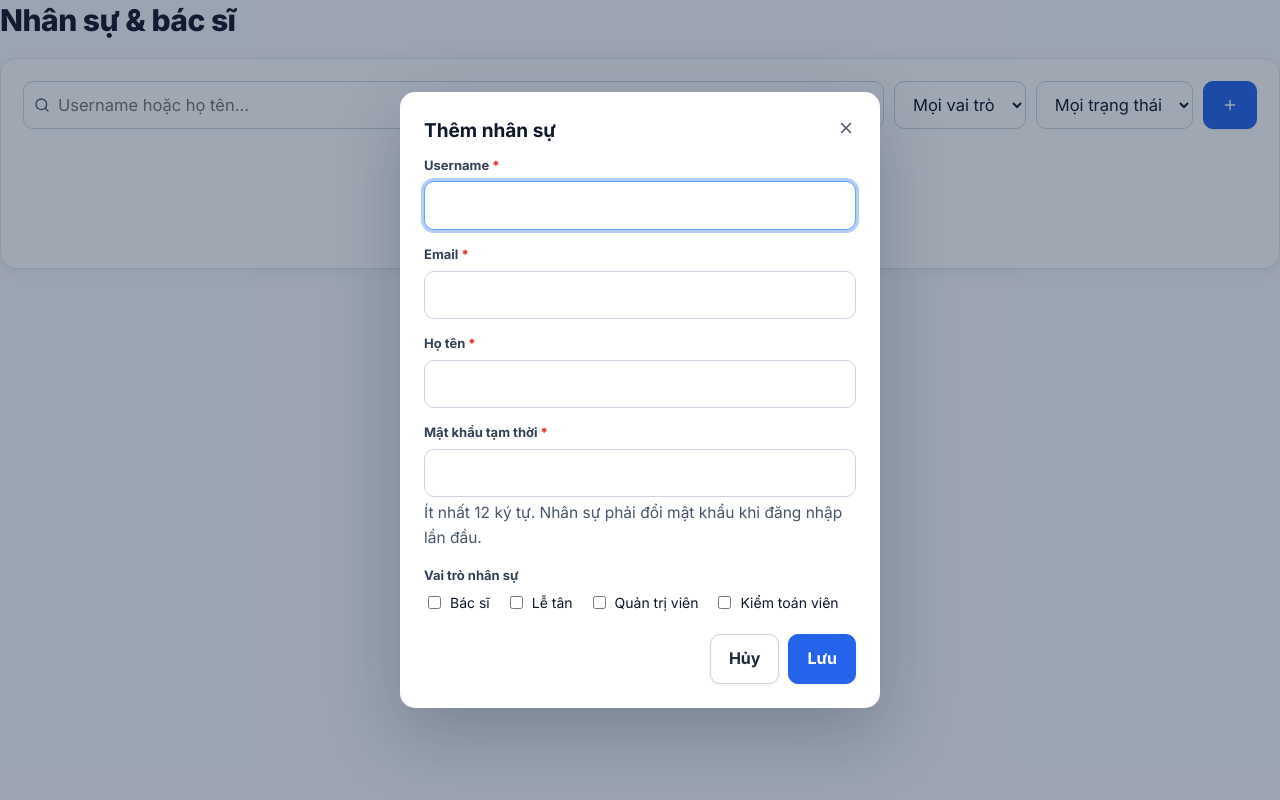
Test: tạo hồ sơ bác sĩ kèm chuyên khoa ngay khi cấp vai trò Bác sĩ
Earlier steps of the test are not shown.
In the field labelled "Username *": (640, 206) [424,181,856,230], type "doctor-specialty"
In the field labelled "Họ tên *": (640, 384) [424,360,856,408], type "Nguyễn Bác Sĩ"
In the field labelled "Email *": (640, 295) [424,271,856,319], type "specialty@example.test"
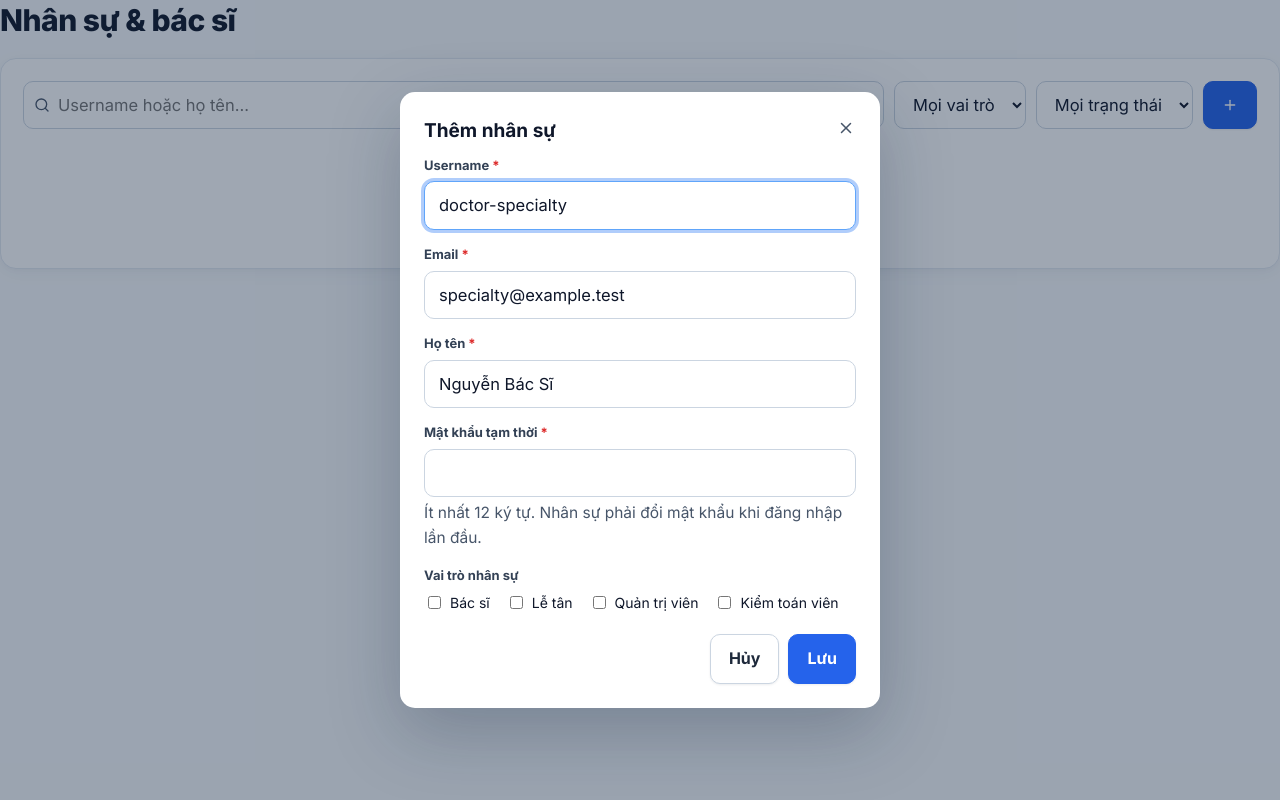
In the password field labelled "Mật khẩu tạm thời *": (640, 473) [424,449,856,497], type "Temporary!Demo42"
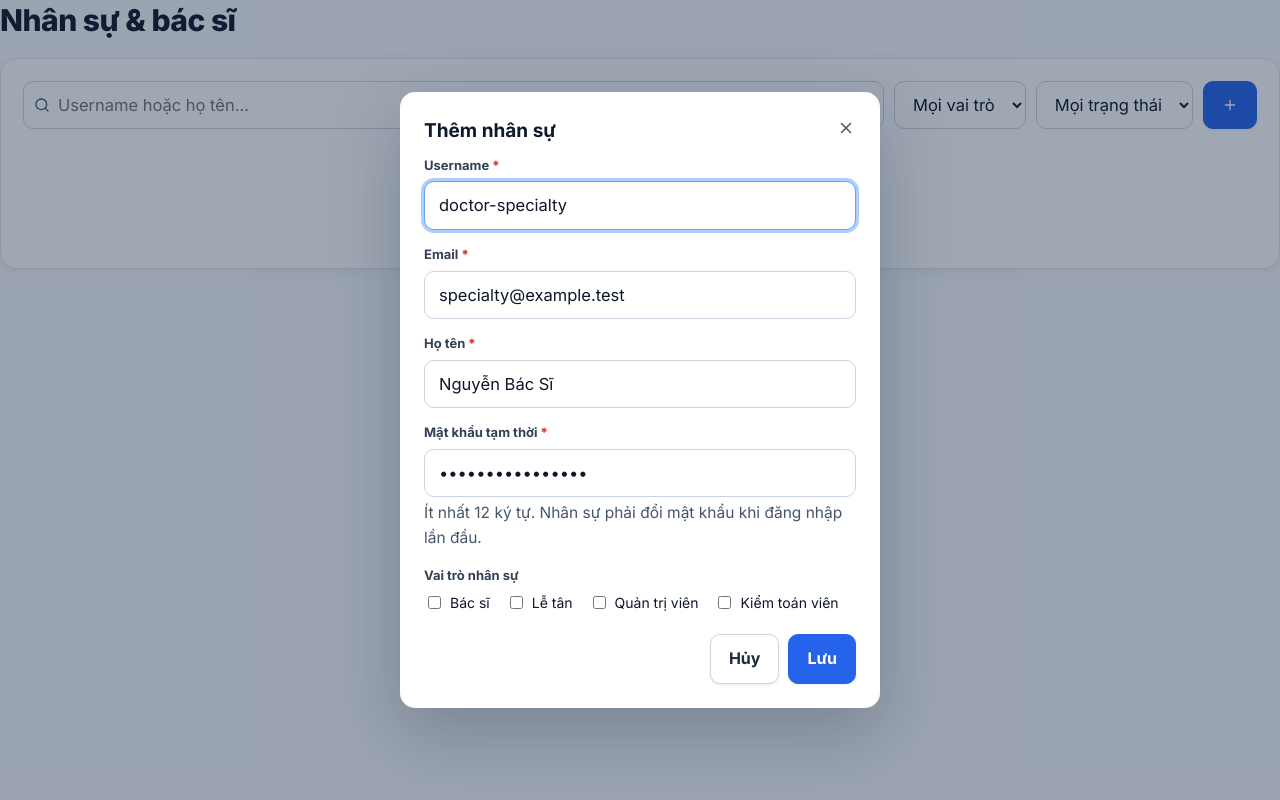
Click the checkbox labelled "Bác sĩ": (434, 603) [428,596,441,610]
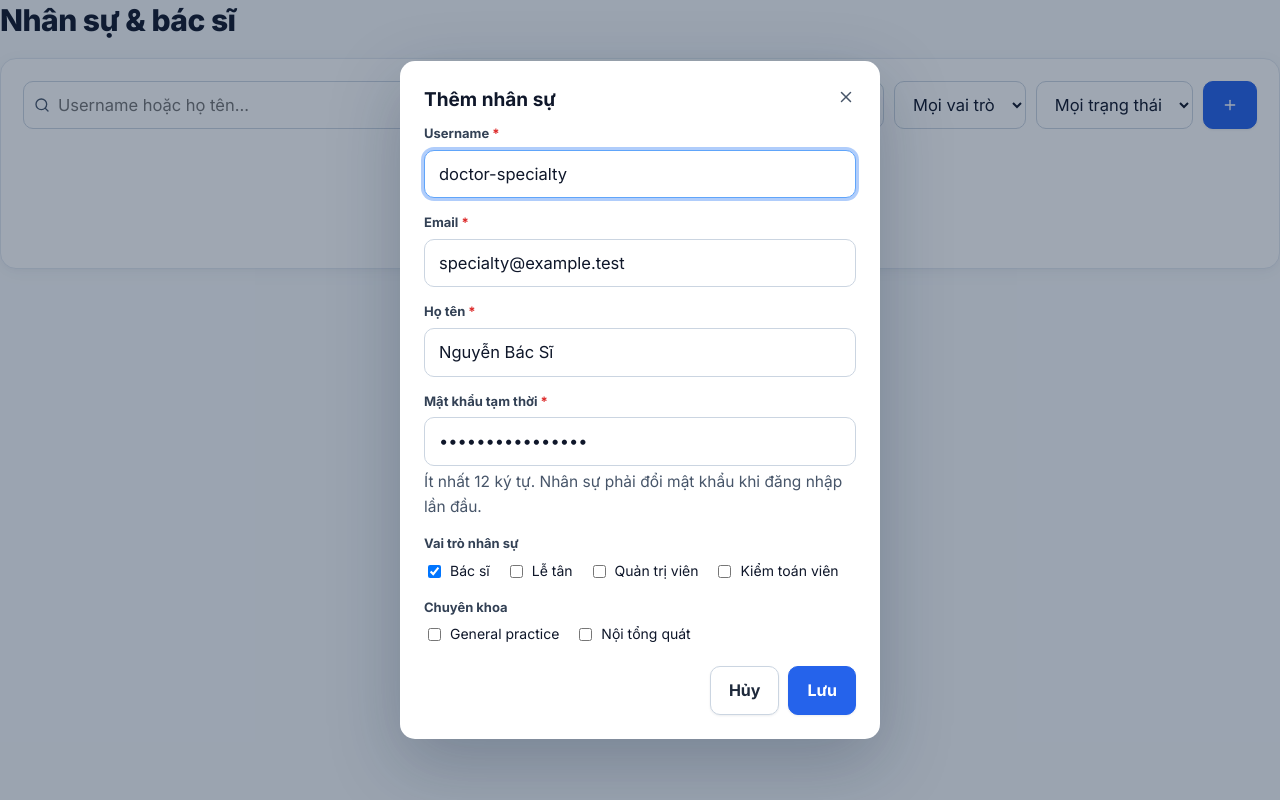
Submit the form, box [424,123,856,646]
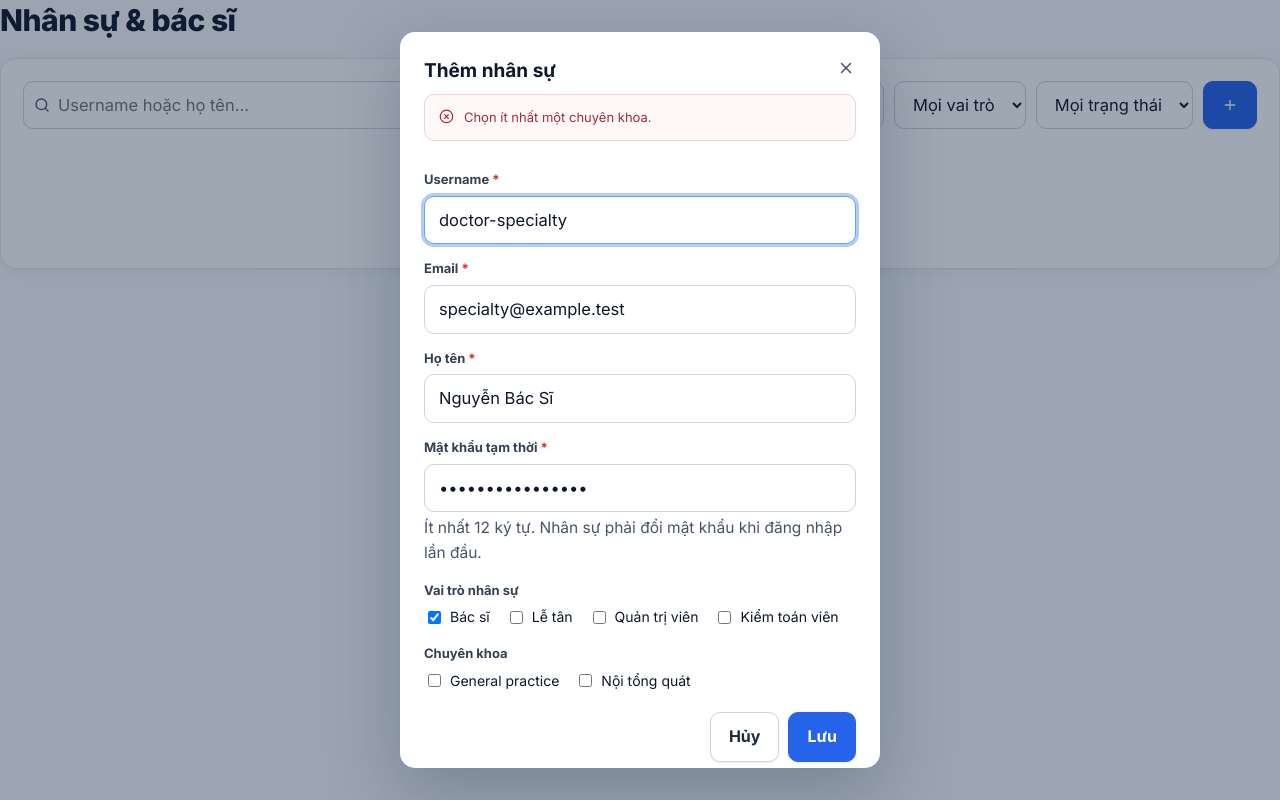
Now the text "Chọn ít nhất một chuyên khoa." is shown, box [464,109,652,125]
Click the checkbox labelled "Nội tổng quát": (586, 681) [579,674,592,687]
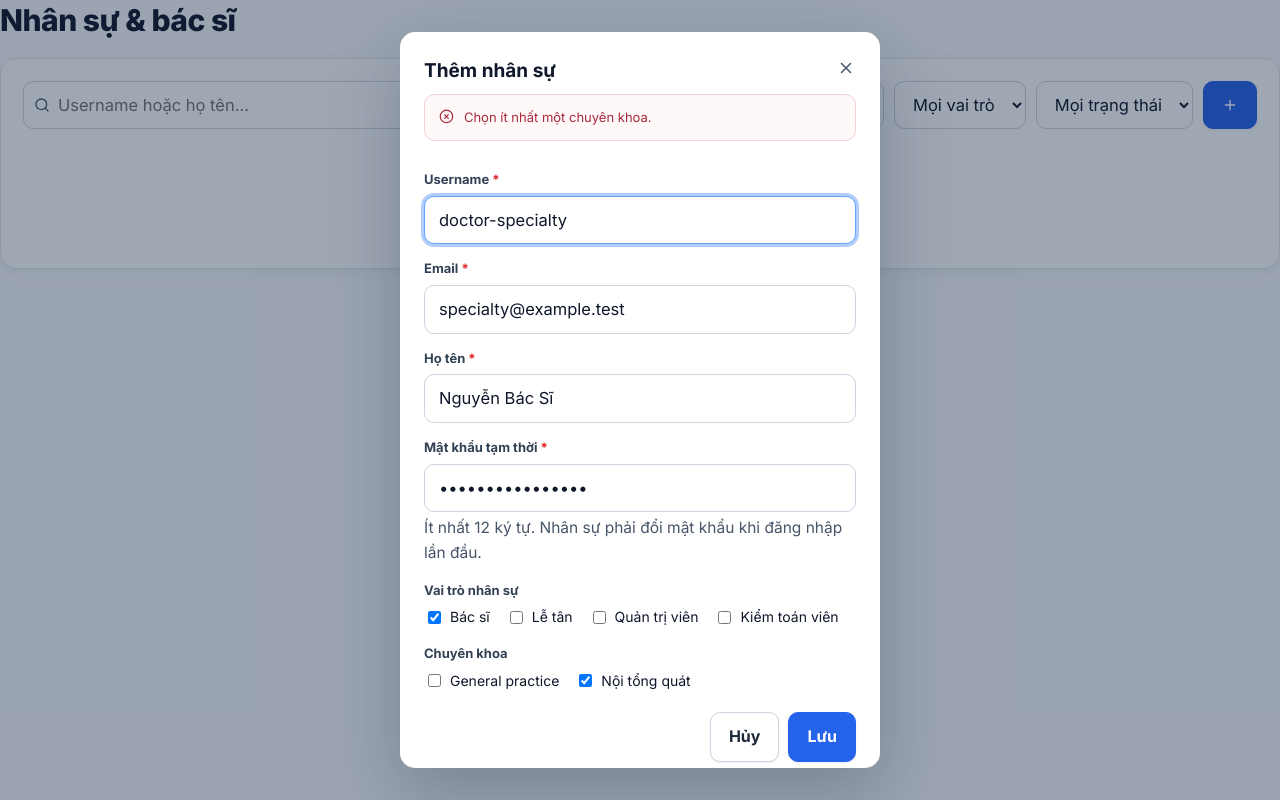
Submit the form, box [424,94,856,692]
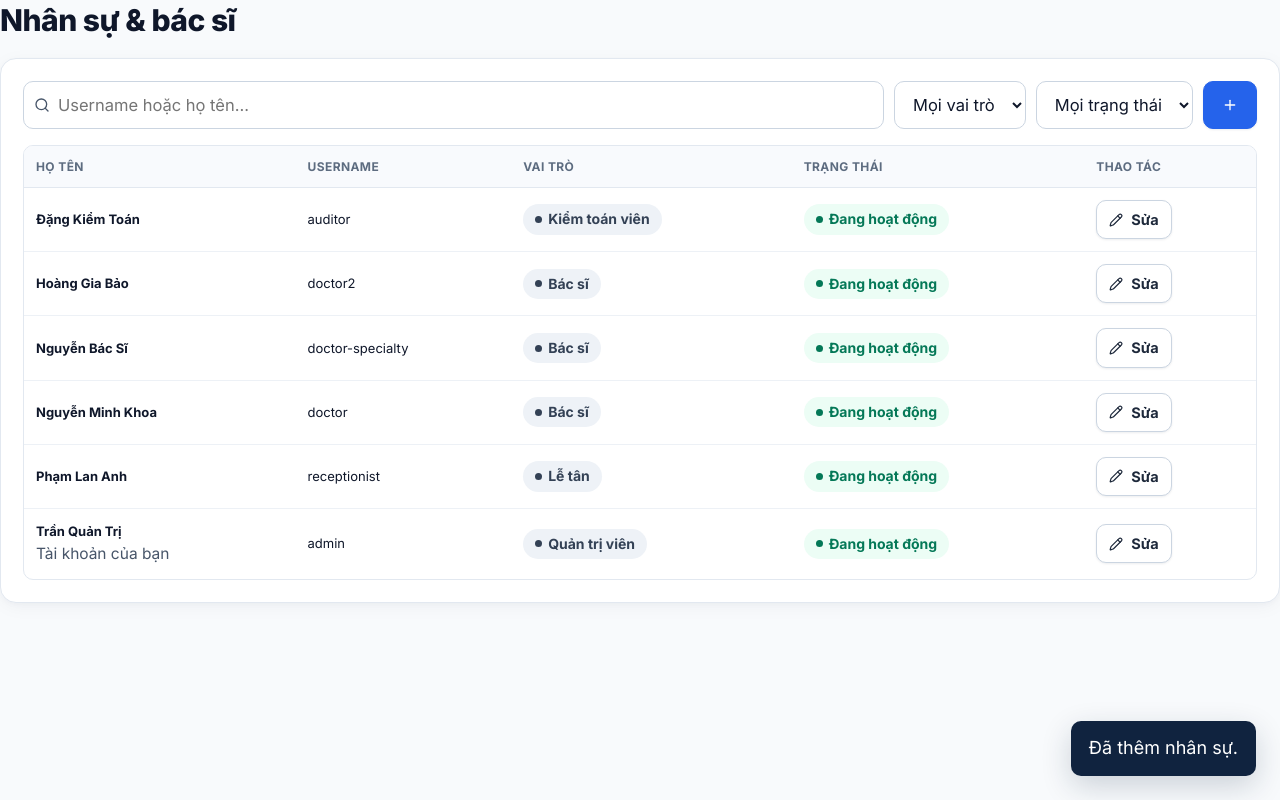
Now the row "Nguyễn Bác Sĩ doctor-specialty Bác sĩ Đang hoạt động Sửa" is shown, box [24,316,1256,380]
